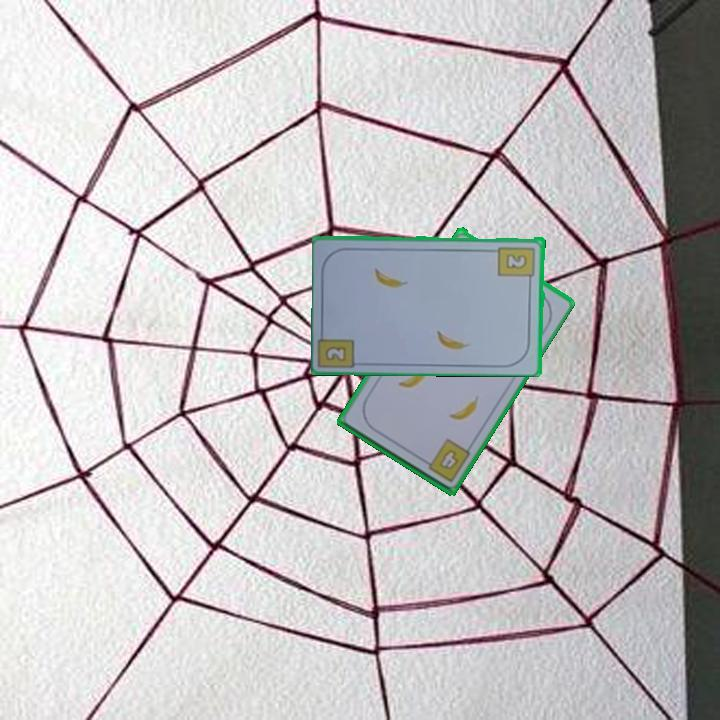2b: (496, 243, 538, 285), (324, 344, 347, 362)
4b: (435, 445, 462, 472)
